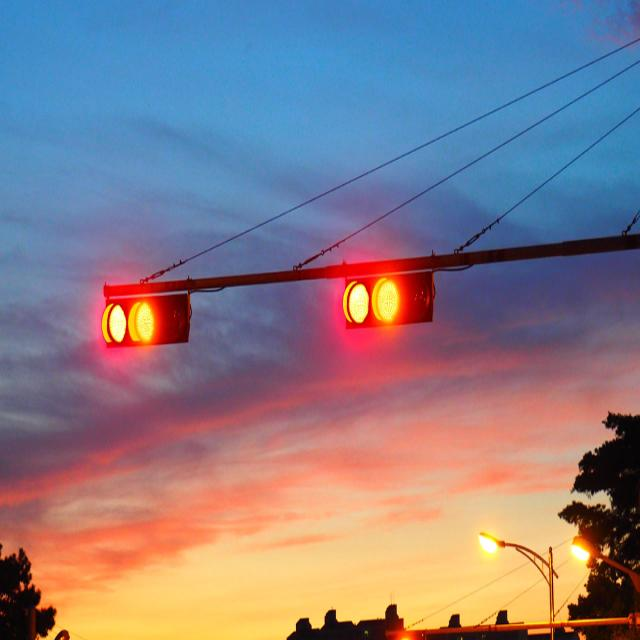Red Light: (341, 273, 371, 328), (101, 300, 128, 348)
Yellow Light: (372, 274, 402, 325), (128, 298, 156, 350)
